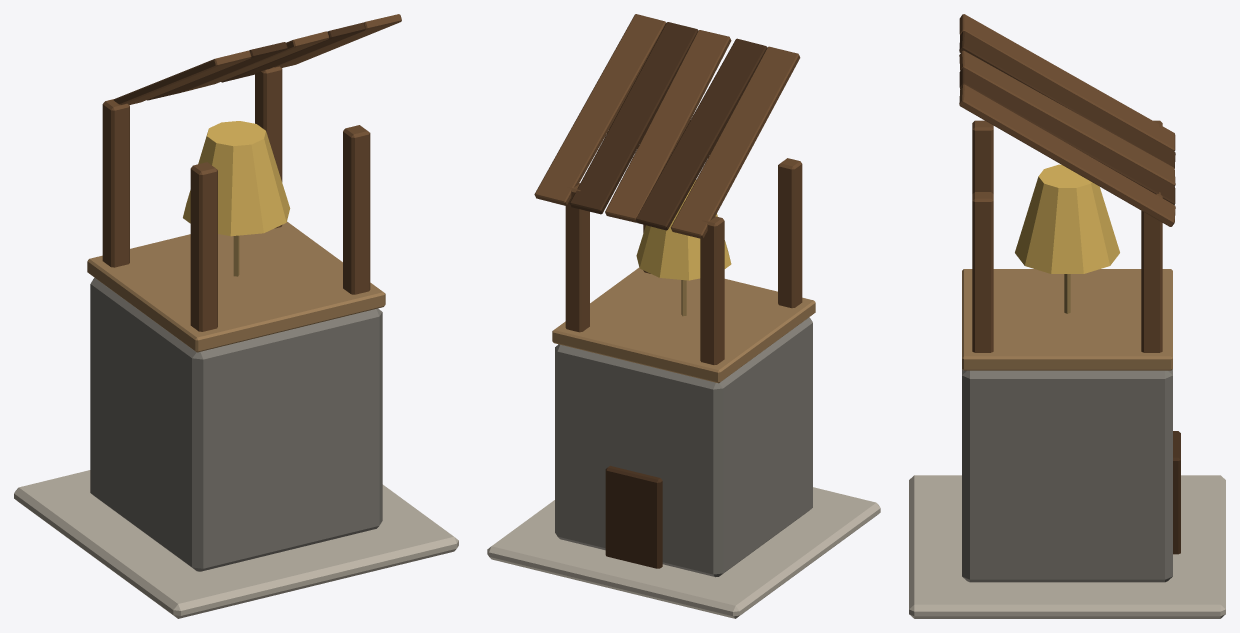
Rendered from bell_tower.fbx.
3 renders of one model, left to right at view 1: azimuth 30°, elevation 25°; view 2: azimuth 150°, elevation 25°; view 3: azimuth 270°, elevation 25°, orthographic. The views are drawn at different scales.
Parts seen in each view (by area): view 1: Building, Bell; view 2: Building, Bell; view 3: Building, Bell.
Boxes of the visible parts, left/top/right/bottom form: Building: left=14, top=14, right=458, bottom=618; Bell: left=183, top=121, right=290, bottom=236; Building: left=487, top=14, right=880, bottom=618; Bell: left=636, top=180, right=731, bottom=280; Building: left=909, top=14, right=1225, bottom=618; Bell: left=1015, top=164, right=1119, bottom=273.
Bounding box in the file's own units: 1.2 × 1.2 × 2.11.
